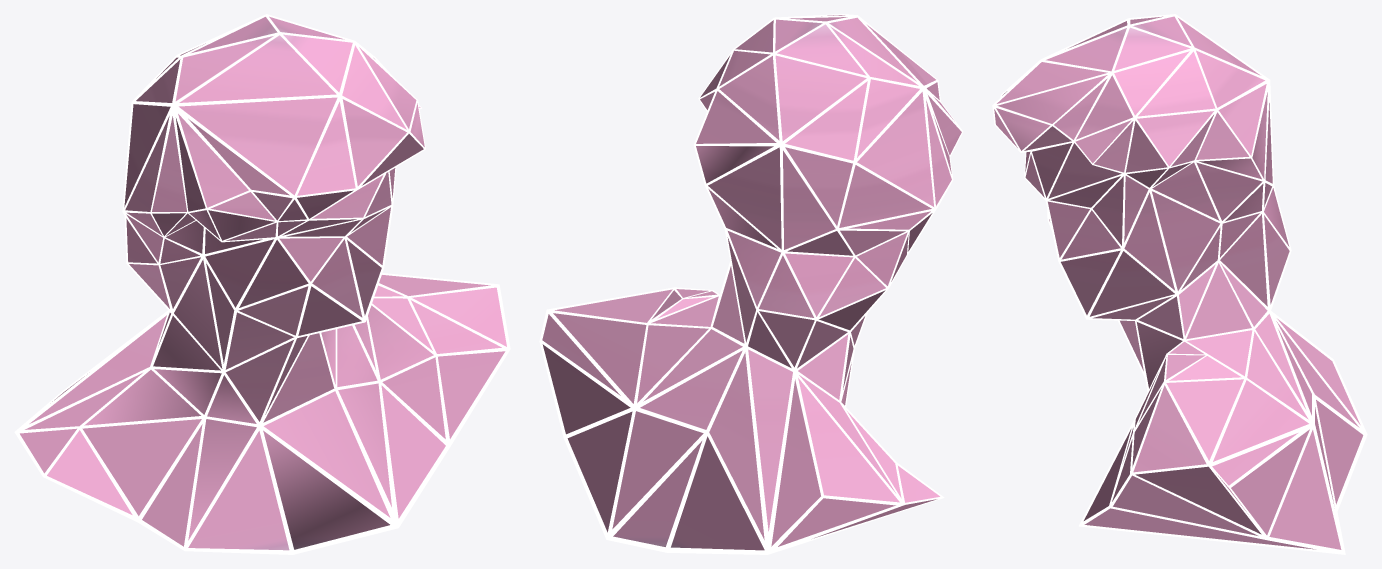
The model's file is David_Retro.glb.
The picture shows the model from 3 angles, left to right: view 1: azimuth 30°, elevation 25°; view 2: azimuth 150°, elevation 25°; view 3: azimuth 270°, elevation 25°; orthographic projection. The views are drawn at different scales.
Visible parts, largest first — view 1: David_Retro; view 2: David_Retro; view 3: David_Retro.
Boxes of the visible parts, x1=… form: David_Retro: x1=14, y1=14, x2=510, y2=554; David_Retro: x1=539, y1=14, x2=963, y2=554; David_Retro: x1=992, y1=14, x2=1367, y2=554.
Size of the model in its own units: 3.36 by 3.74 by 2.64.
2 materials, 2 textured.
